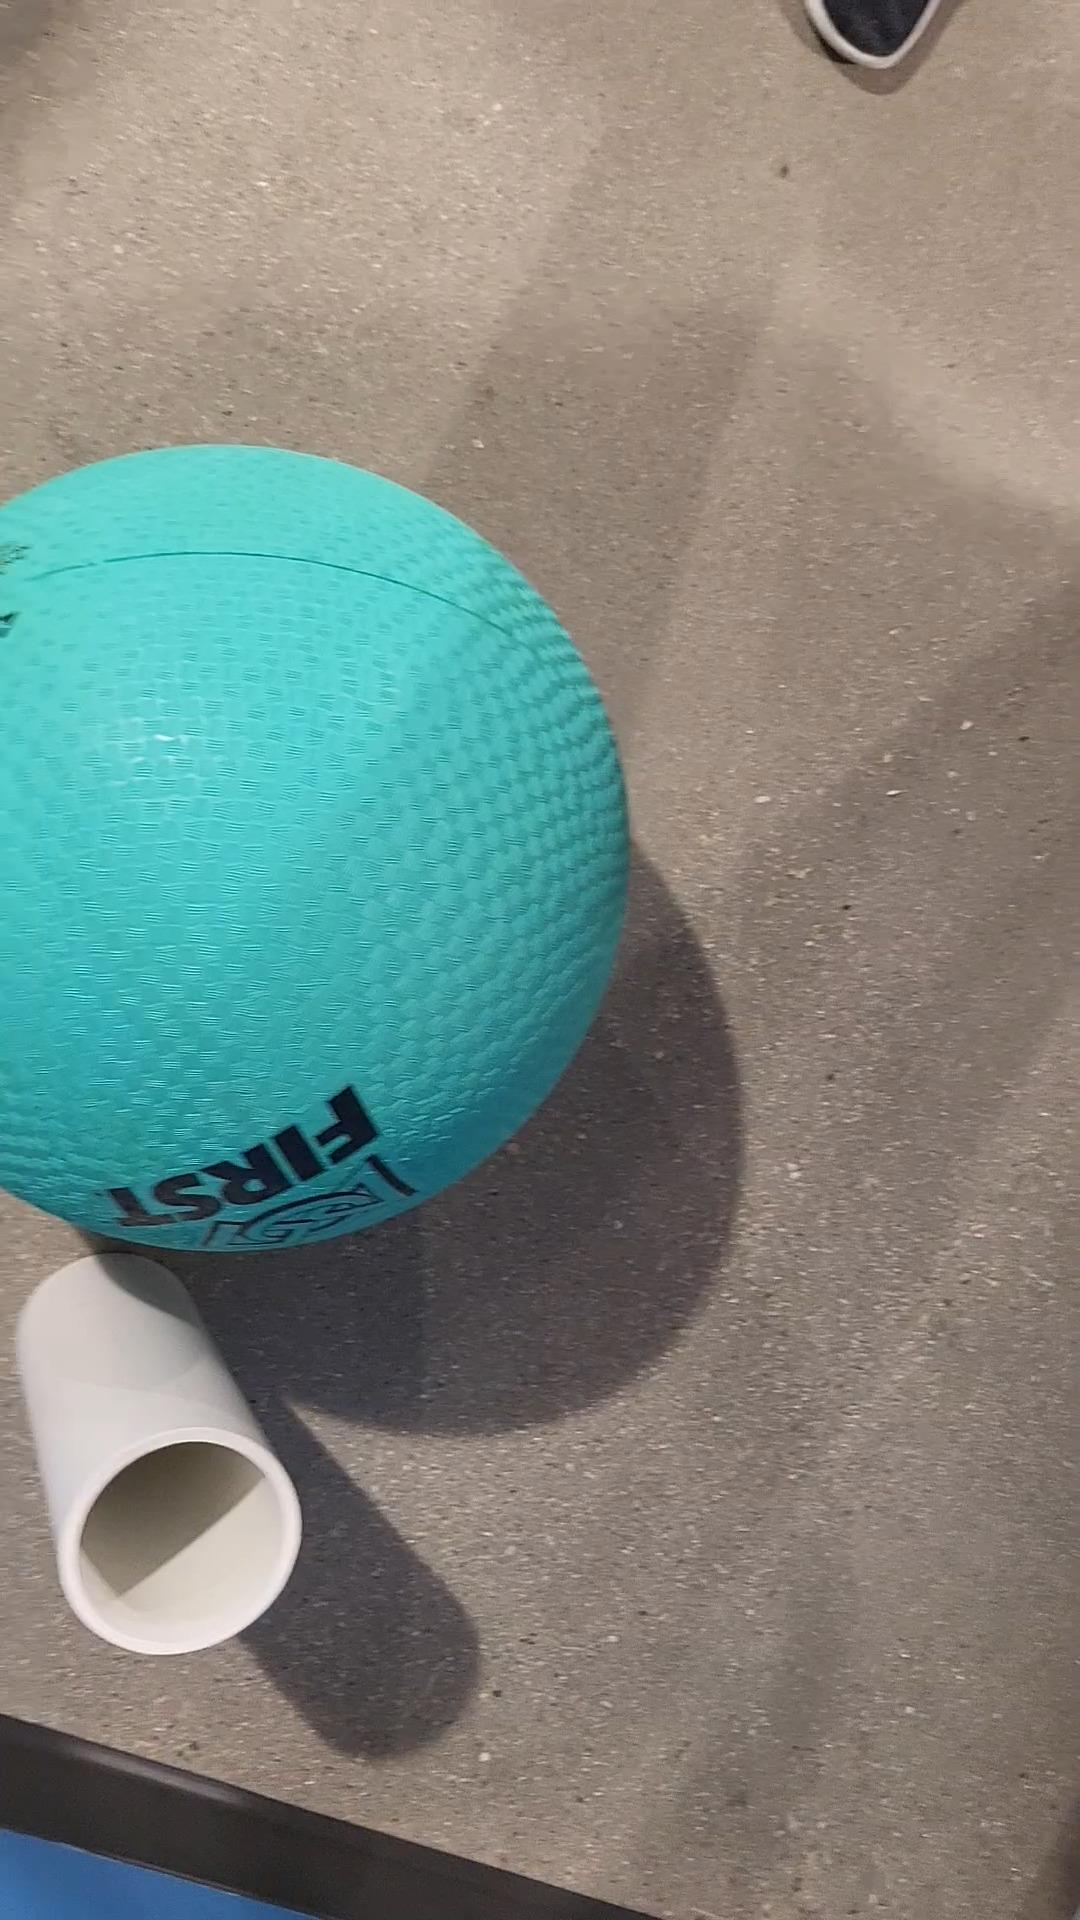algae: (0, 441, 647, 1270)
coral: (0, 1244, 313, 1663)
